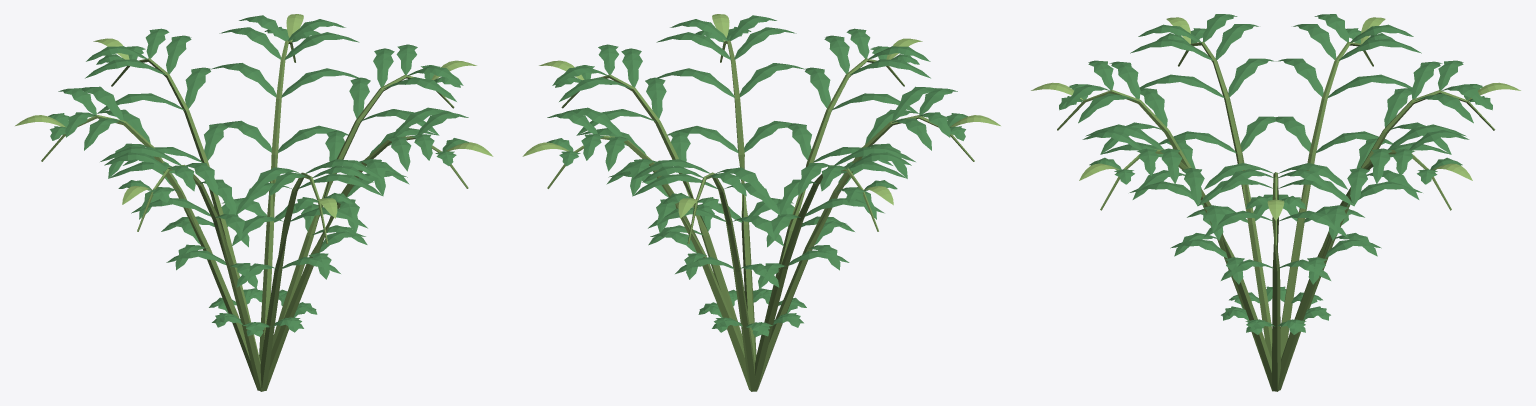
File: shade-fern.glb
The picture shows the model from 3 angles, left to right: view 1: azimuth 30°, elevation 25°; view 2: azimuth 150°, elevation 25°; view 3: azimuth 270°, elevation 25°; orthographic projection.
Parts seen in each view (by area): view 1: shade-fern; view 2: shade-fern; view 3: shade-fern.
Part boxes in pixels (box(x1,y1,x2,y2)): shade-fern: box(15, 14, 493, 391); shade-fern: box(522, 14, 1000, 391); shade-fern: box(1031, 14, 1520, 391).
Size of the model in its own units: 0.5646 by 0.3862 by 0.5791.
